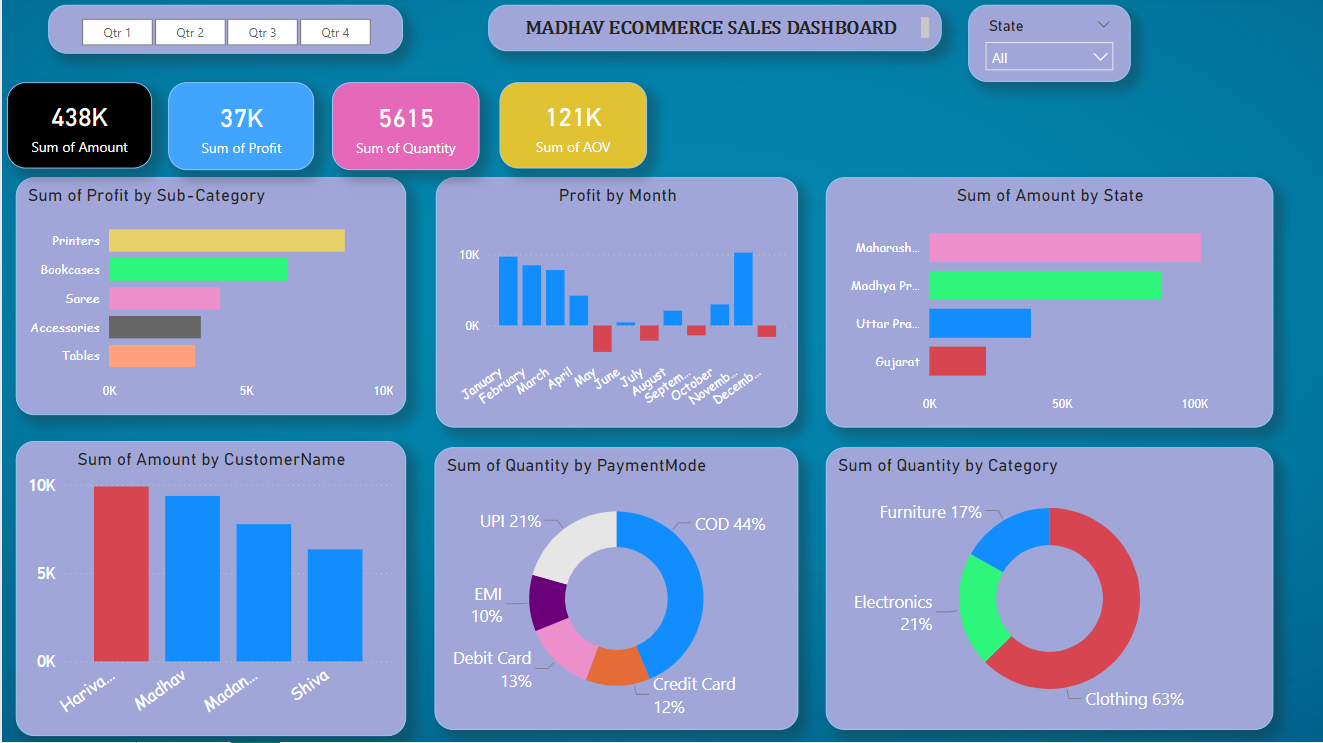

The page's visual inventory and layout, read from the dashboard file:
{"tool":"powerbi","page":{"name":"Page 1","canvas":[1280,720],"ordinal":0},"visuals":[{"type":"textbox","box":[469.3,8.4,437.9,44.6],"z":0},{"type":"columnChart","fields":{"Category":["Orders.Order Date.Variation.Date Hierarchy.Month"],"Y":["Details.Profit"]},"box":[418.6,174.9,349.9,241.3],"z":1000},{"type":"barChart","fields":{"Y":["Details.Profit"],"Category":["Details.Sub-Category"]},"box":[13.3,174.9,376.4,229.2],"z":2000},{"type":"donutChart","fields":{"Category":["Details.Category"],"Y":["Details.Quantity"]},"box":[795,435.5,431.9,272.7],"z":3000},{"type":"donutChart","fields":{"Y":["Details.Quantity"],"Series":["Details.PaymentMode"]},"box":[417.4,435.5,351.1,272.7],"z":4000},{"type":"card","fields":{"Values":["Details.Amount"]},"box":[4.8,83.2,139.9,83.2],"z":5000},{"type":"card","fields":{"Values":["Details.Profit"]},"box":[160.5,83.2,141.2,84.5],"z":6000},{"type":"card","fields":{"Values":["Details.Quantity"]},"box":[318.5,83.2,142.4,84.5],"z":7000},{"type":"card","fields":{"Values":["Details.AOV"]},"box":[480.2,83.2,142.4,83.2],"z":8000},{"type":"barChart","fields":{"Category":["Orders.State"],"Y":["Details.Amount"]},"box":[795,174.9,431.9,241.3],"z":9000},{"type":"columnChart","fields":{"Category":["Orders.CustomerName"],"Y":["Details.Amount"]},"box":[13.3,429.5,376.4,284.7],"z":10000},{"type":"slicer","fields":{"Values":["Orders.Order Date.Variation.Date Hierarchy.Quarter"]},"box":[45,9,342,47],"z":11000},{"type":"slicer","fields":{"Values":["Orders.State"]},"box":[932.6,8.4,156.8,74.8],"z":12000}]}

Visuals, with their boxes in screenshot pixels (x1, y1, x2, y2), scaled from the page's 1280x720 canvas onto the 1323x743 screenshot:
textbox: pyautogui.locateOnScreen(485, 9, 938, 55)
columnChart - Orders.Order Date.Variation.Date Hierarchy.Month x Details.Profit: pyautogui.locateOnScreen(433, 180, 794, 429)
barChart - Details.Profit x Details.Sub-Category: pyautogui.locateOnScreen(14, 180, 403, 417)
donutChart - Details.Category x Details.Quantity: pyautogui.locateOnScreen(822, 449, 1268, 731)
donutChart - Details.Quantity x Details.PaymentMode: pyautogui.locateOnScreen(431, 449, 794, 731)
card - Details.Amount: pyautogui.locateOnScreen(5, 86, 150, 172)
card - Details.Profit: pyautogui.locateOnScreen(166, 86, 312, 173)
card - Details.Quantity: pyautogui.locateOnScreen(329, 86, 476, 173)
card - Details.AOV: pyautogui.locateOnScreen(496, 86, 644, 172)
barChart - Orders.State x Details.Amount: pyautogui.locateOnScreen(822, 180, 1268, 429)
columnChart - Orders.CustomerName x Details.Amount: pyautogui.locateOnScreen(14, 443, 403, 737)
slicer - Orders.Order Date.Variation.Date Hierarchy.Quarter: pyautogui.locateOnScreen(47, 9, 400, 58)
slicer - Orders.State: pyautogui.locateOnScreen(964, 9, 1126, 86)
